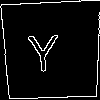Y: (26, 25, 59, 72)
